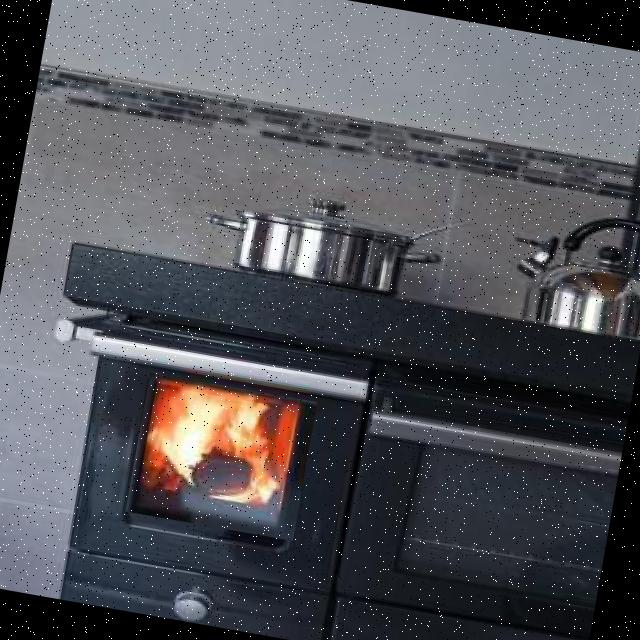fire: (125, 372, 317, 540)
